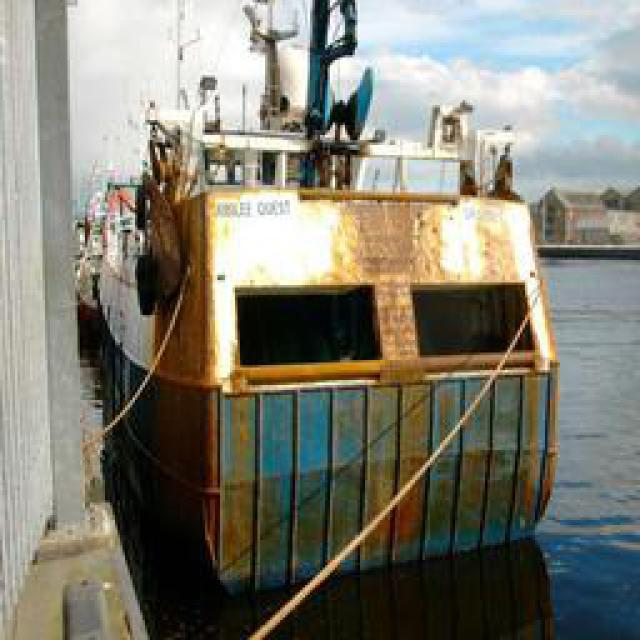Ship: (90, 27, 568, 627)
